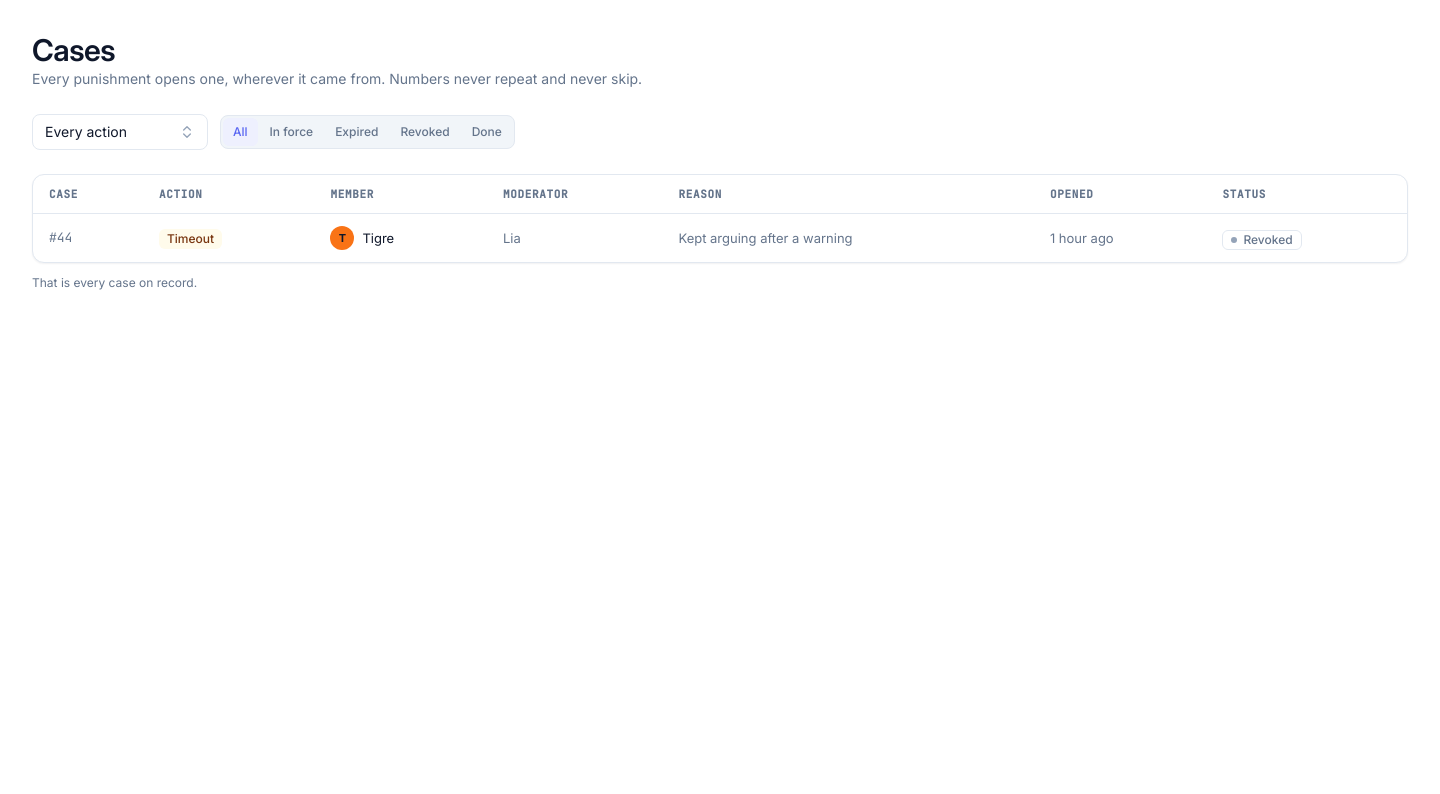
Test case: CasesScreen › falls back to the handle, then the id, so the row is never blank
The image size is (1440, 794).
Click the button with aria-label "Open case 44" at (720, 238), box x1=33 y1=214 x2=1407 y2=262
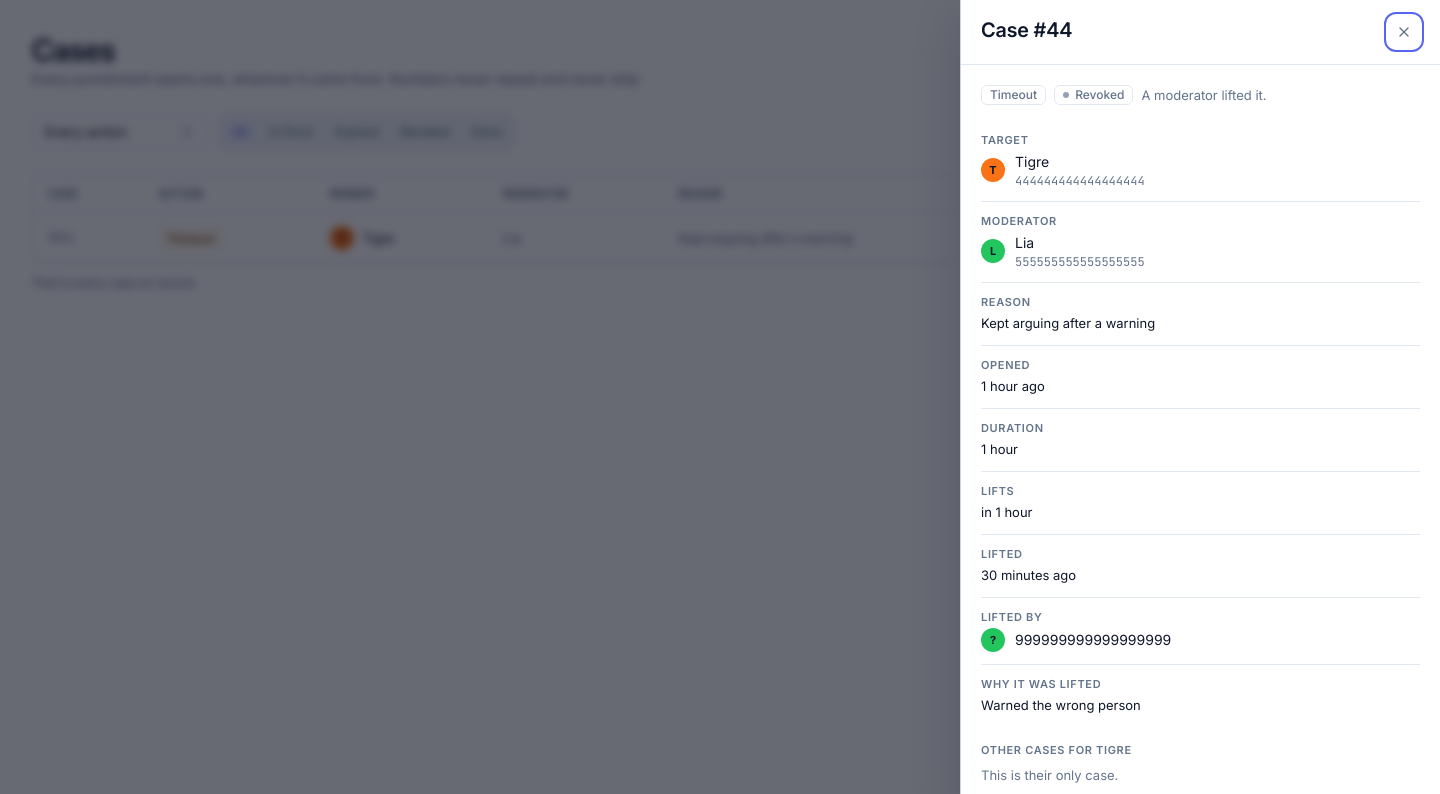
Now the text "999999999999999999" is shown, box x1=1015 y1=629 x2=1171 y2=651
